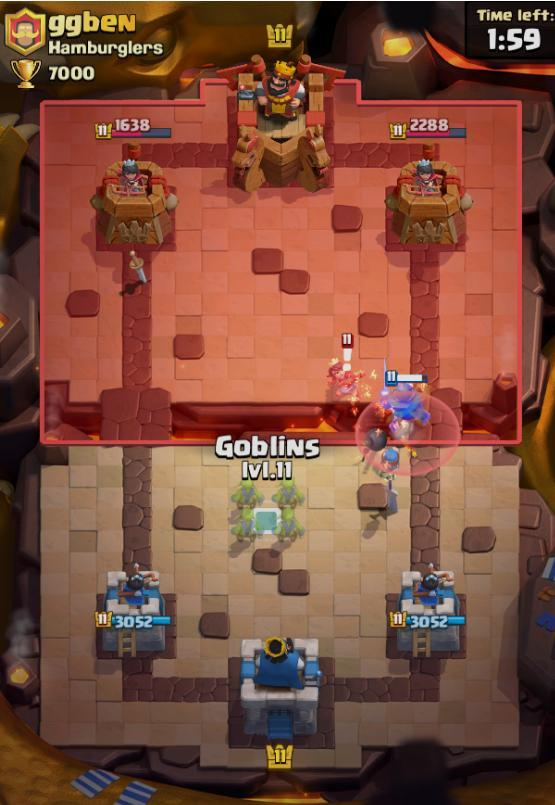EKingTower: (229, 56, 329, 193)
EPrincess: (327, 333, 369, 403)
EnemyPrincessTower: (386, 158, 471, 245), (94, 158, 176, 245)
OBomber: (369, 446, 408, 491)
OGoblin: (230, 506, 261, 543), (272, 480, 311, 508), (274, 507, 303, 543), (231, 479, 263, 511)
OKnight: (378, 370, 430, 438)
OwnKingTower: (240, 636, 322, 740)
OwnPrincessTower: (388, 564, 466, 657), (96, 563, 170, 655)
